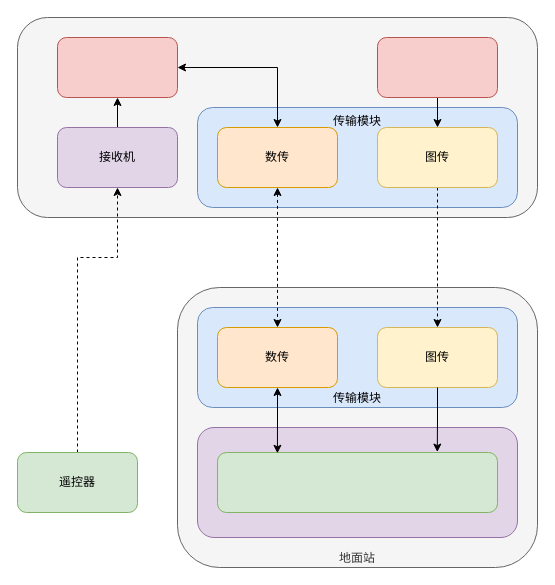
This 555x585 diagram has some shape labels left out. Here are the shapes that lost their labels. From the top down, the box of each, then its label:
(56, 36, 178, 98): 飞控
(376, 36, 498, 98): 摄像机
(16, 16, 538, 218): 无人机
(216, 452, 498, 512): 地面站程序
(196, 426, 518, 538): 计算机
